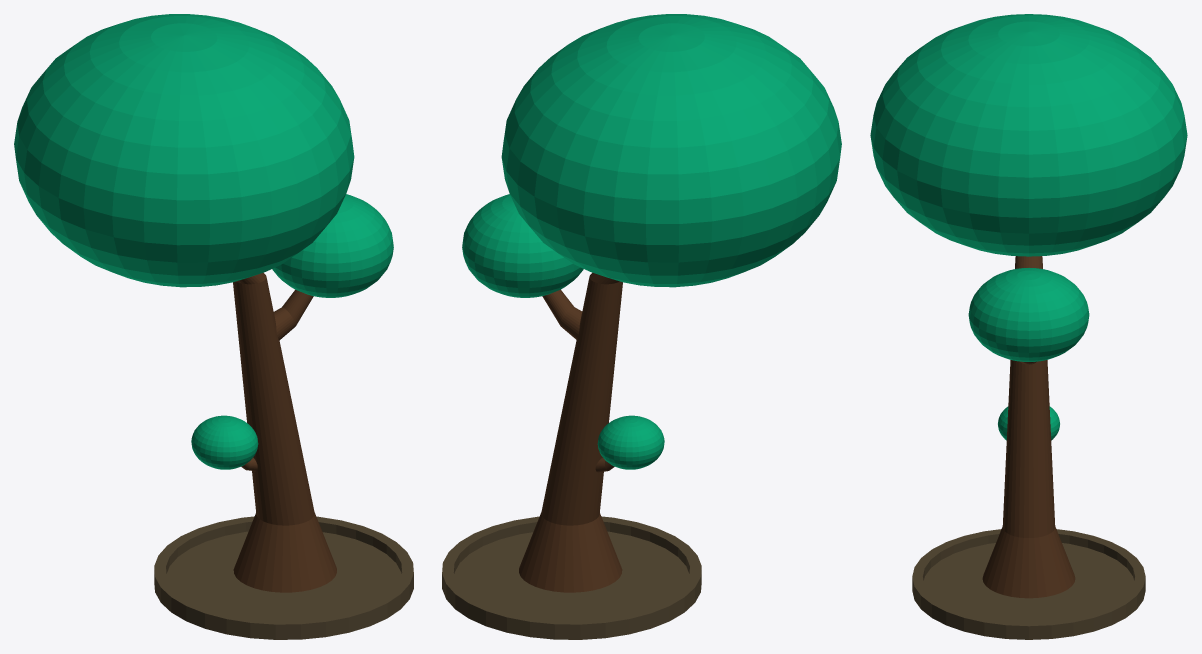
File: arbol 3 (2).fbx
The picture shows the model from 3 angles, left to right: view 1: azimuth 30°, elevation 25°; view 2: azimuth 150°, elevation 25°; view 3: azimuth 270°, elevation 25°; orthographic projection. The views are drawn at different scales.
Visible parts, largest first — view 1: Sphere.007; view 2: Sphere.007; view 3: Sphere.007.
Part boxes in pixels (box(x1,y1,x2,y2)): Sphere.007: box(14, 14, 413, 639); Sphere.007: box(442, 14, 841, 639); Sphere.007: box(870, 14, 1187, 639).
Bounding box in the file's own units: 318 × 487 × 272.
